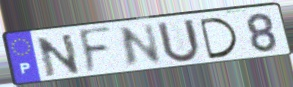8: (244, 12, 279, 54)
D: (197, 16, 241, 61)
F: (77, 25, 115, 78)
N: (34, 32, 83, 79), (118, 22, 165, 71)
U: (155, 17, 204, 65)
